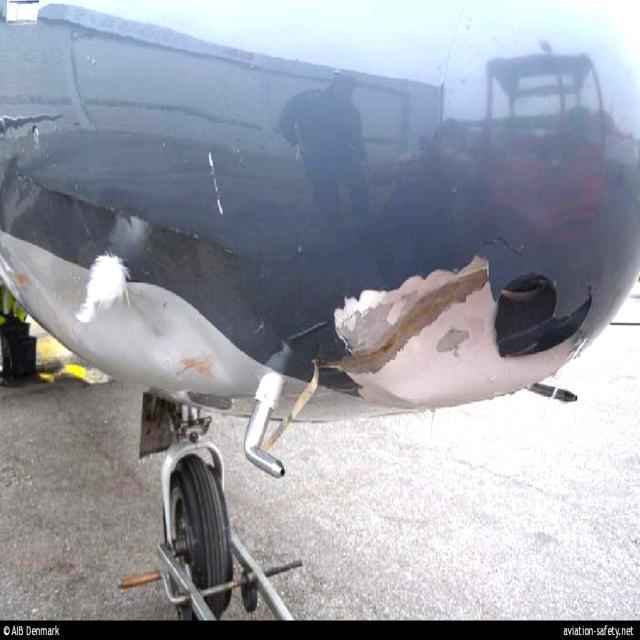crack: (478, 232, 529, 261)
dent: (382, 309, 457, 406), (134, 294, 186, 374), (188, 312, 236, 382)
